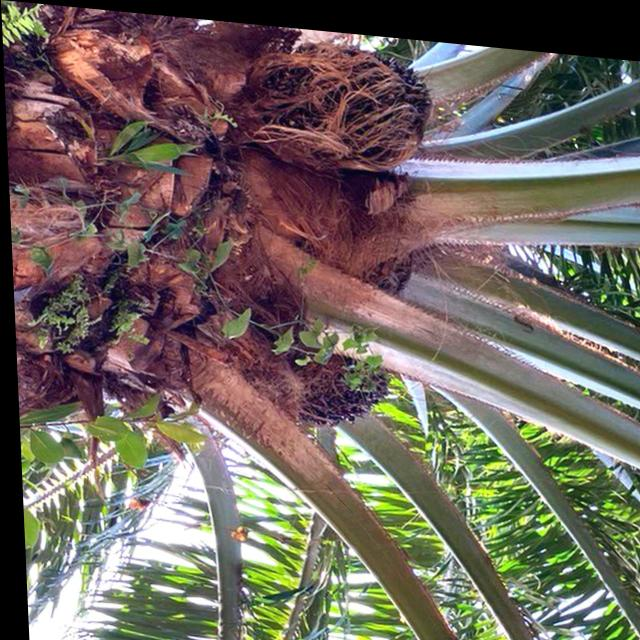almost: (278, 328, 394, 436)
